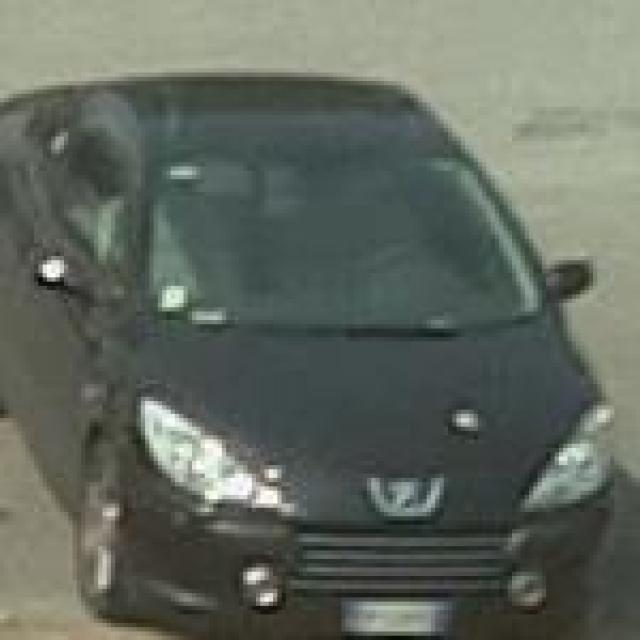cars-sUYr: (8, 53, 639, 640)
